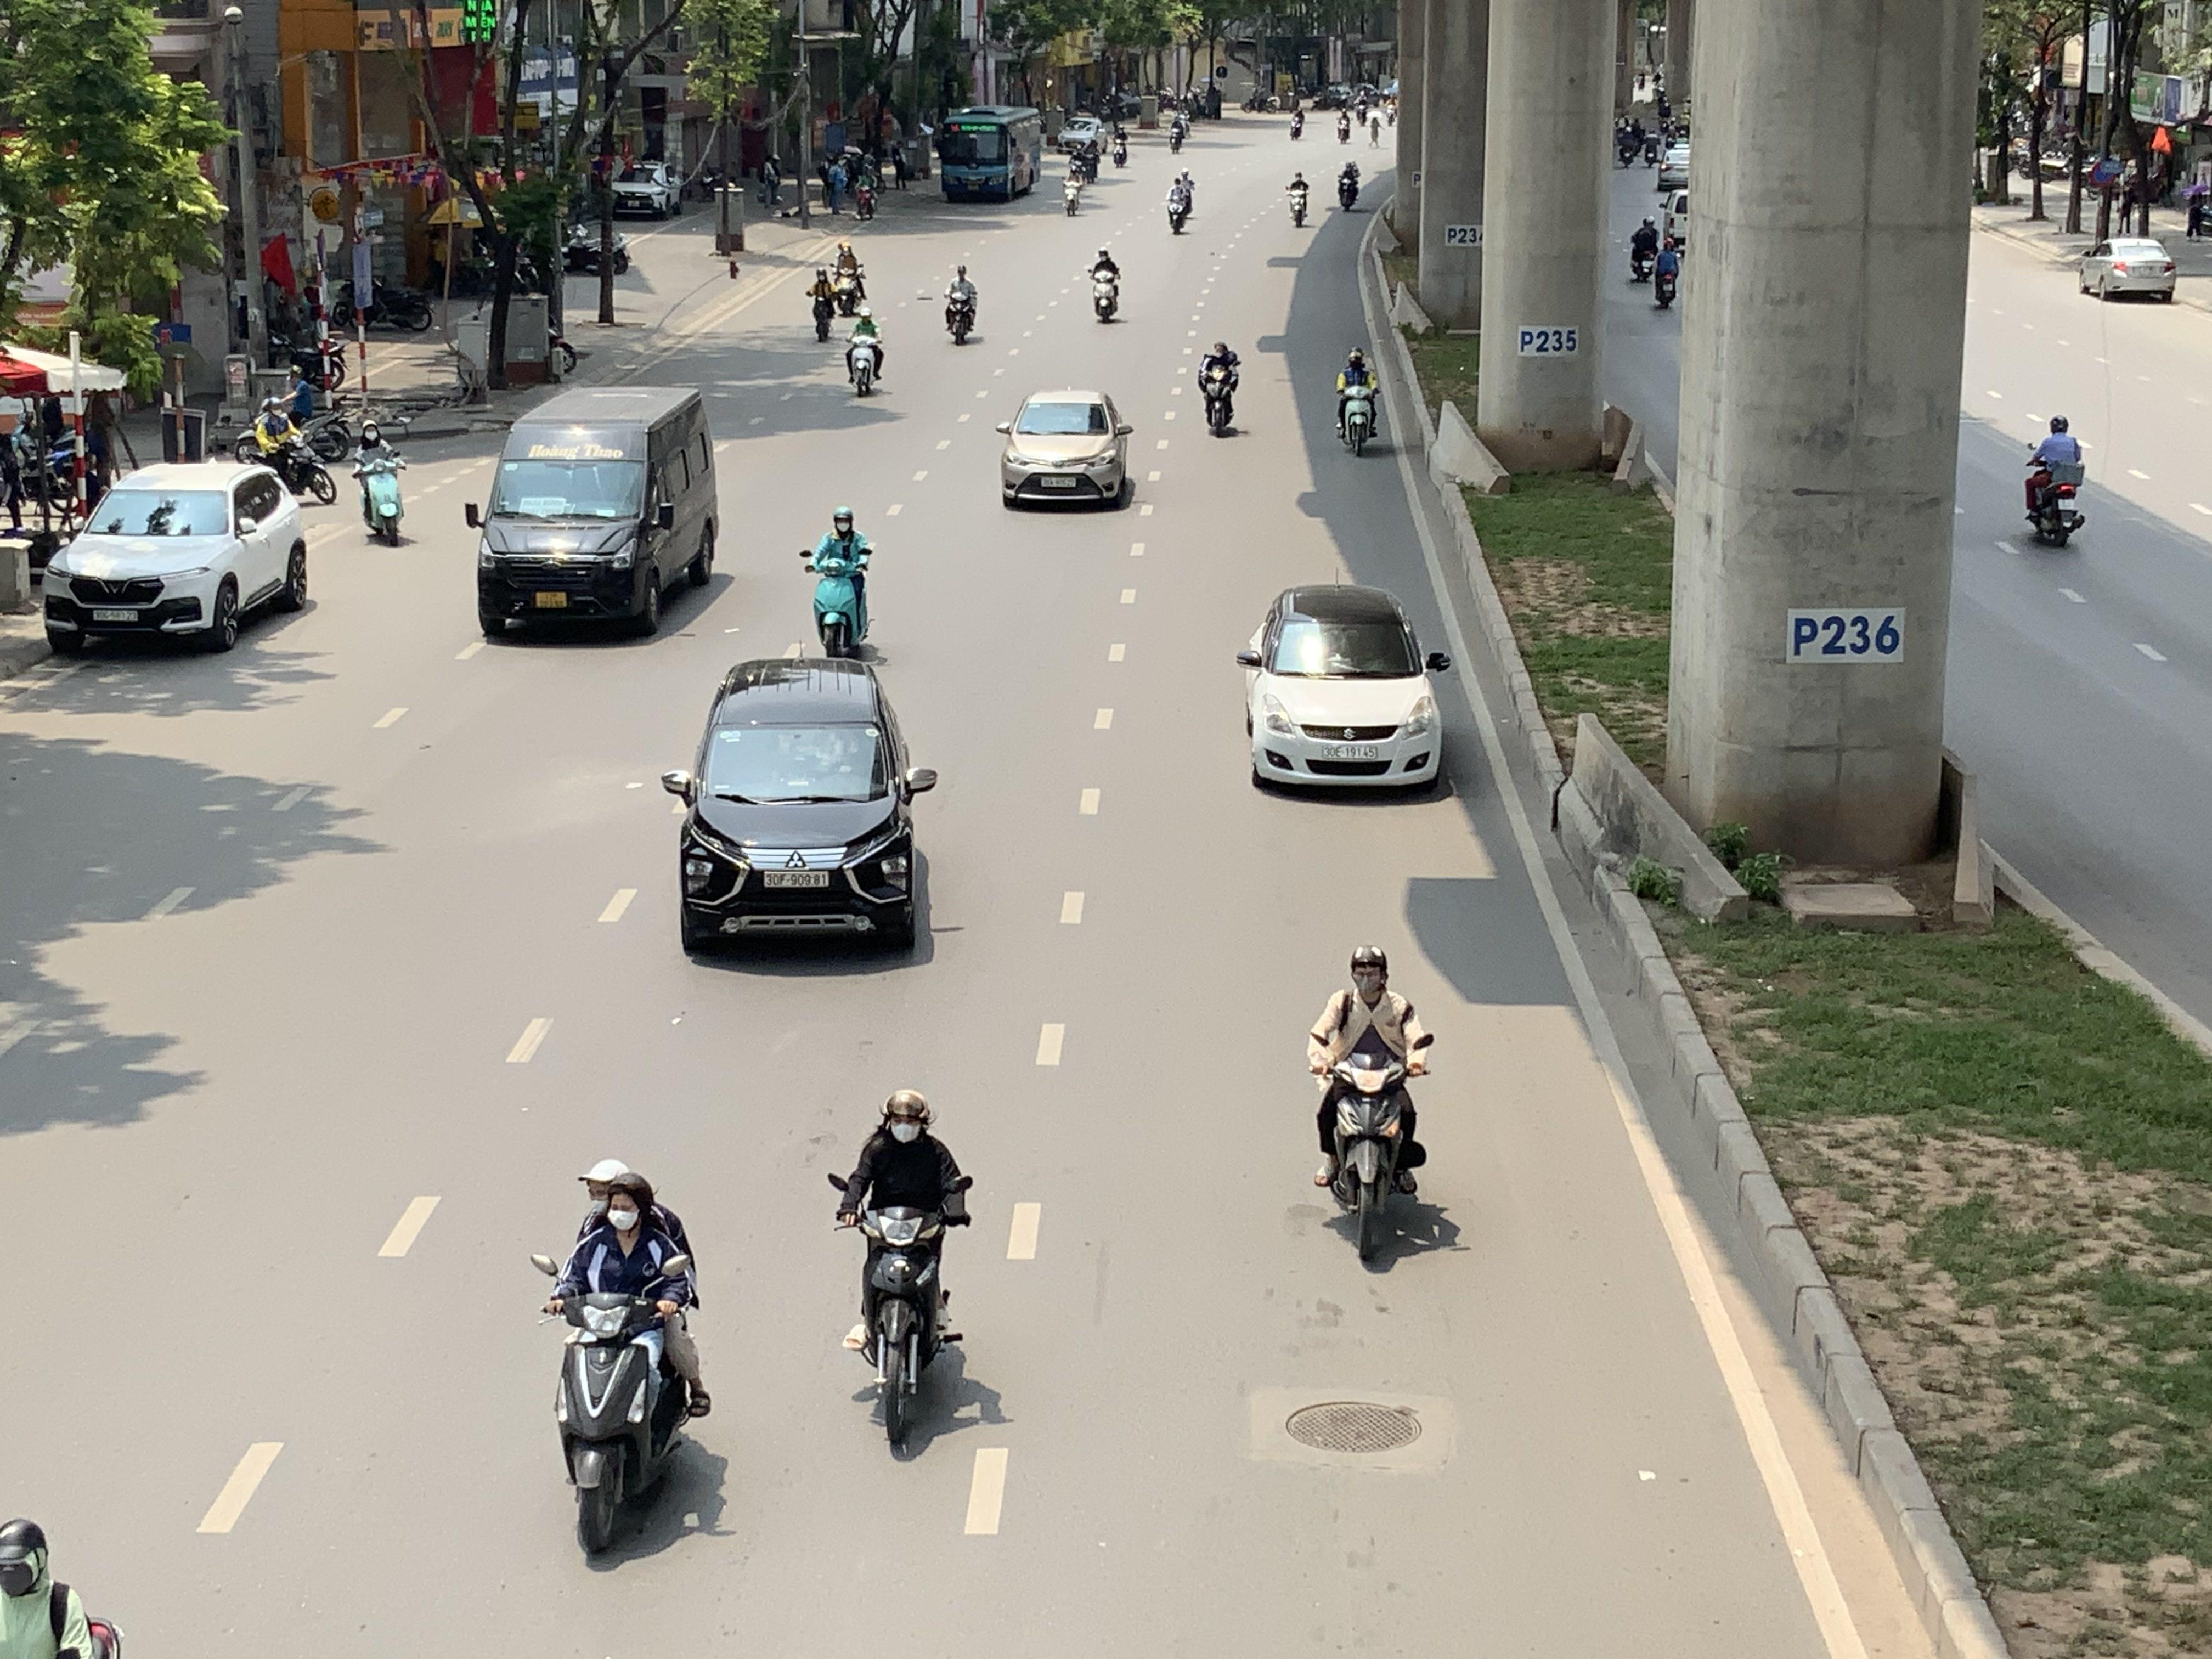BSD: (763, 871, 827, 887), (1320, 746, 1376, 760), (92, 610, 138, 622)
BSV: (535, 591, 568, 606), (2059, 498, 2076, 511)
bus: (460, 378, 718, 647), (937, 105, 1043, 202)
car: (662, 659, 941, 960), (40, 460, 314, 657), (1237, 582, 1451, 796), (996, 389, 1136, 511), (2078, 235, 2177, 301), (611, 164, 683, 220)
motorbike: (538, 1161, 709, 1563), (833, 1087, 972, 1460), (1310, 945, 1433, 1269), (0, 1516, 125, 1659), (801, 505, 876, 664), (239, 401, 336, 504), (2024, 413, 2085, 545), (352, 422, 408, 547), (1334, 347, 1381, 457), (1197, 338, 1242, 437), (845, 301, 887, 396), (942, 261, 981, 345), (1087, 244, 1123, 324), (1649, 227, 1684, 310), (831, 239, 867, 317), (806, 265, 840, 343), (1284, 171, 1312, 227), (1165, 176, 1191, 234), (1336, 159, 1362, 213), (1061, 162, 1083, 216)
